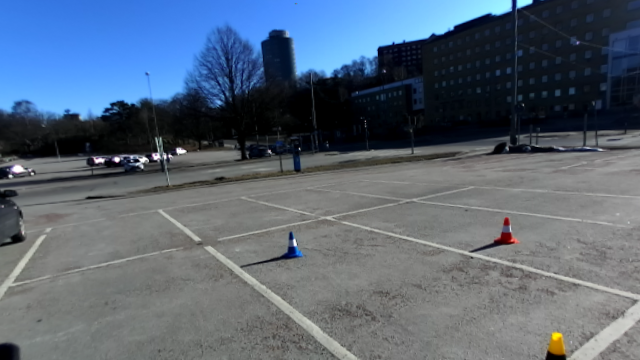blue: (279, 229, 304, 259)
orange: (493, 215, 519, 246)
